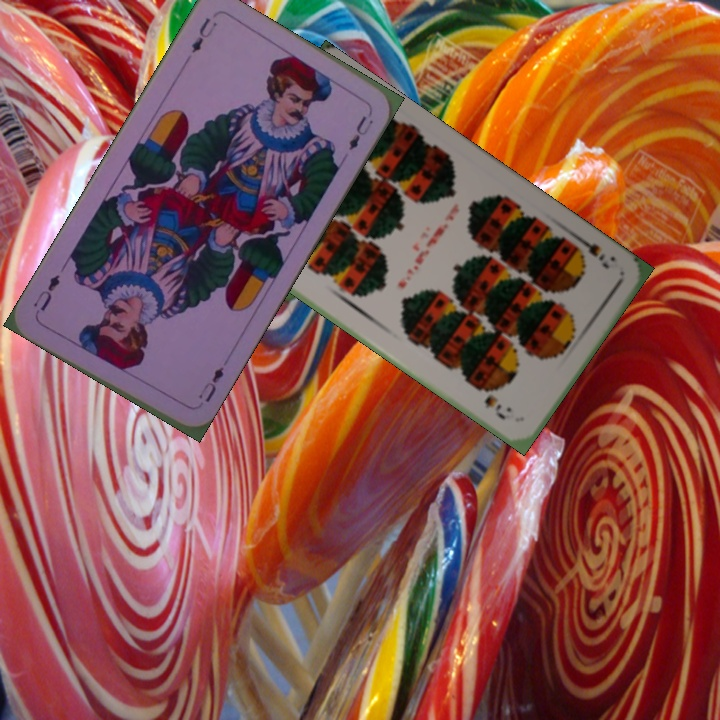EU: (194, 362, 227, 406), (187, 13, 220, 56)
S9: (568, 231, 612, 272)
